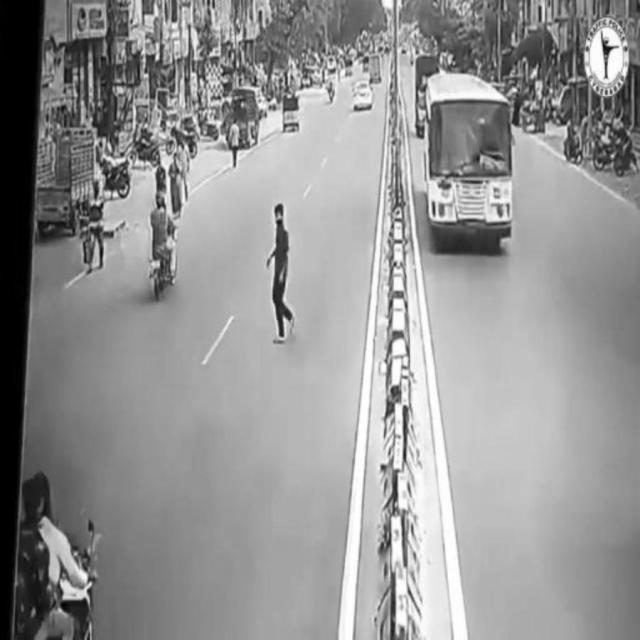person: (265, 204, 295, 338)
vehicle: (427, 78, 517, 255), (24, 482, 95, 639), (137, 195, 187, 296), (351, 77, 375, 113)
